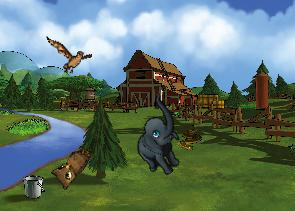eagle: (44, 36, 93, 75)
elephant: (116, 93, 203, 182)
owl: (46, 138, 93, 192)
